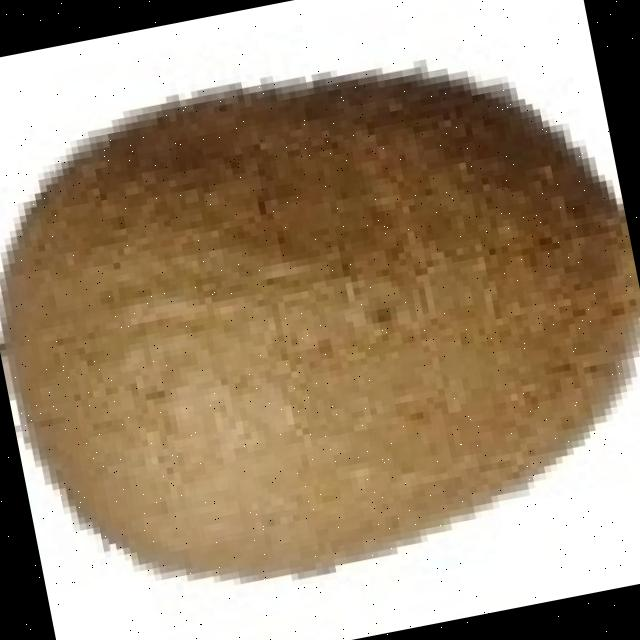kiwi: (0, 93, 633, 586)
